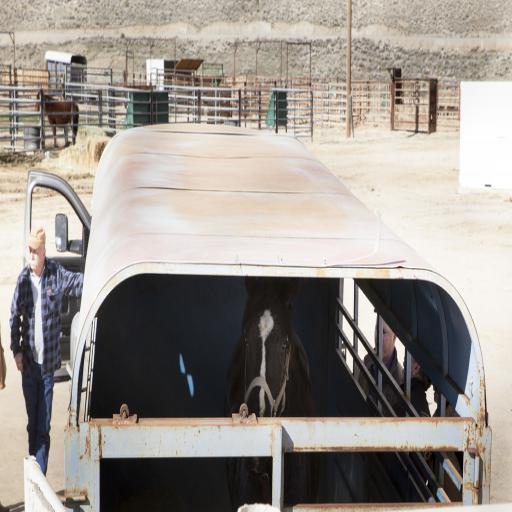horse: (220, 276, 320, 510), (34, 86, 80, 152)
